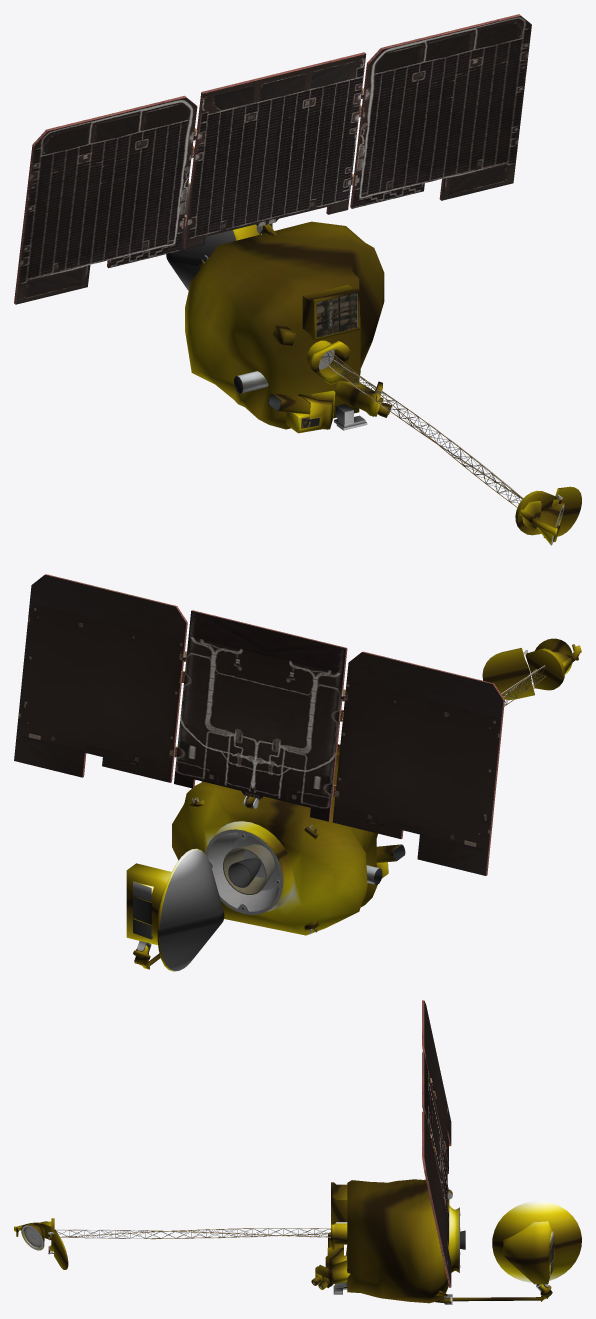
Rendered from odyssey.glb.
3 renders of one model, top to bottom at view 1: azimuth 30°, elevation 25°; view 2: azimuth 150°, elevation 25°; view 3: azimuth 270°, elevation 25°, orthographic. The views are drawn at different scales.
Visible parts, largest first — view 1: shiny_panel, foil_gold, tex_boom, tex_01, foil_silver; view 2: tex_01, shiny_panel, foil_gold, foil_silver, tex_04; view 3: foil_gold, tex_01, shiny_panel, tex_boom.
Part boxes in pixels (x1,y1,x2,y2): shiny_panel: (14, 14, 531, 369); foil_gold: (185, 183, 581, 545); tex_boom: (320, 351, 523, 507); tex_01: (41, 50, 562, 504); foil_silver: (166, 184, 242, 393); tex_01: (14, 575, 534, 887); shiny_panel: (45, 574, 504, 914); foil_gold: (126, 638, 581, 971); foil_silver: (133, 850, 382, 970); tex_04: (191, 798, 378, 932); foil_gold: (14, 1179, 581, 1303); tex_01: (48, 1001, 546, 1303); shiny_panel: (422, 1000, 460, 1287); tex_boom: (56, 1228, 330, 1239).
Size of the model in its own units: 5.67 by 3.36 by 8.22.
9 materials, 9 textured.
